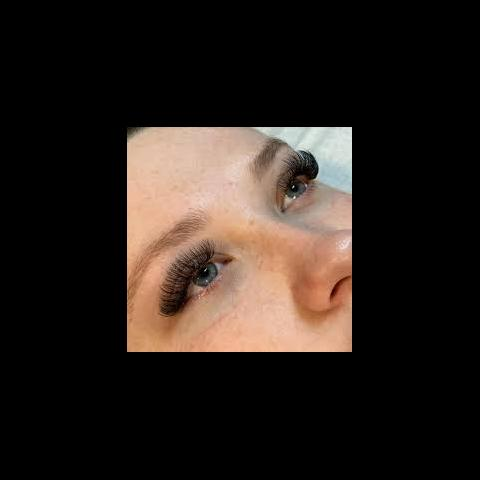opened: (140, 147, 322, 325)
